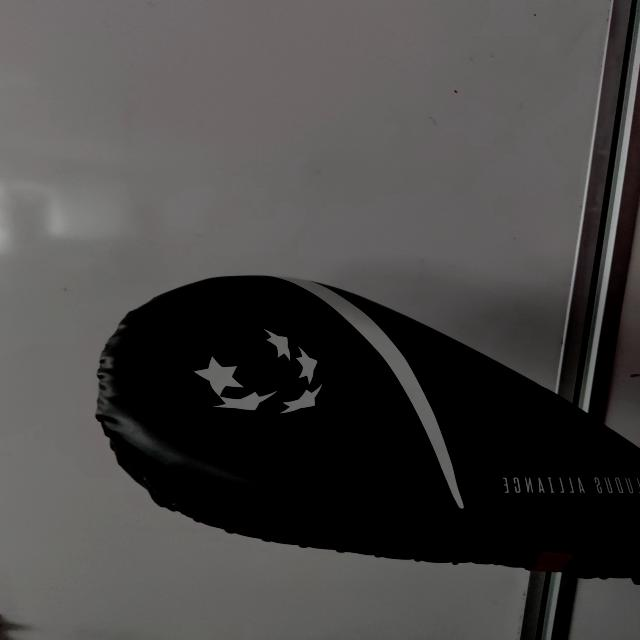paddle: (88, 272, 640, 580)
